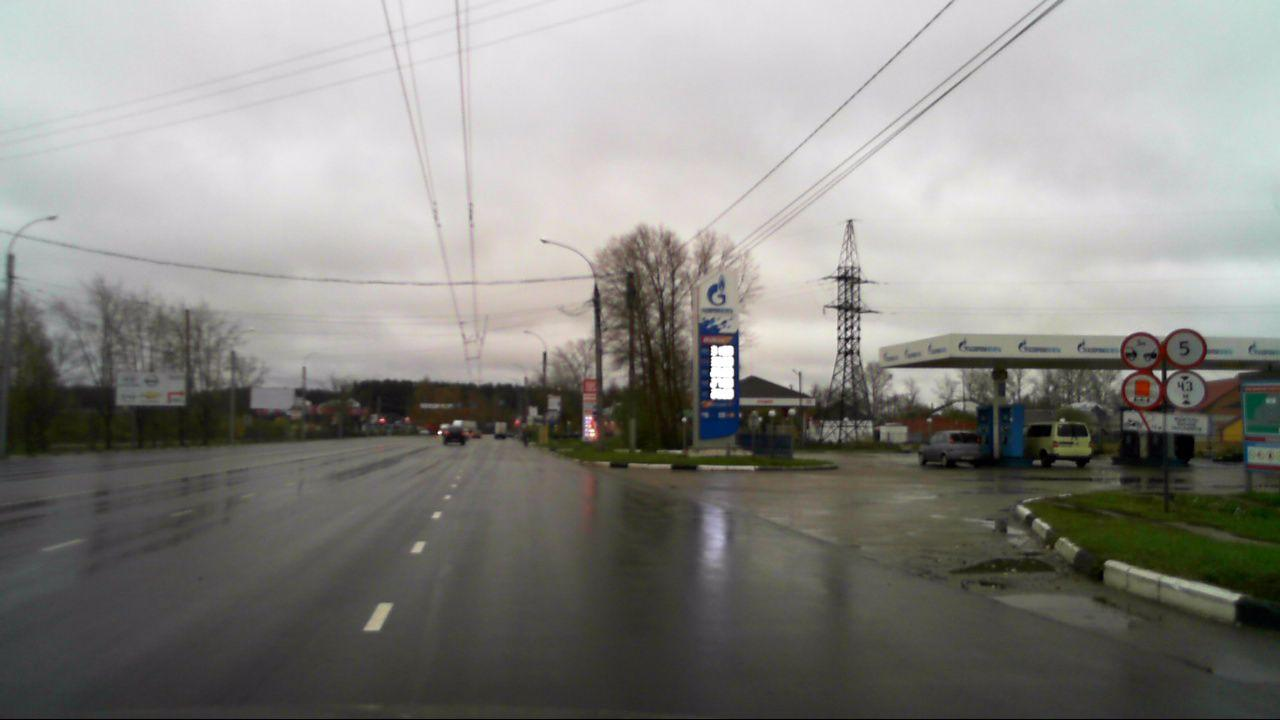3_13: (1166, 370, 1206, 408)
3_16: (1122, 326, 1165, 370)
3_24: (1164, 327, 1206, 367)
3_32: (1120, 371, 1162, 409)
